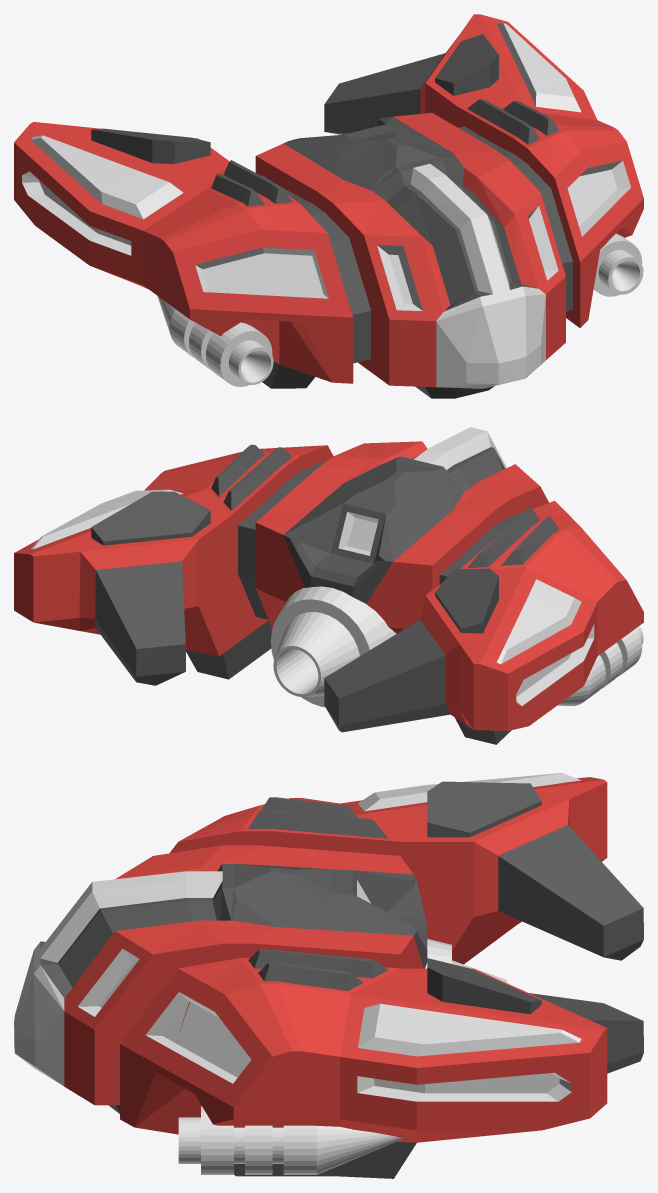
File: SmallEnemy.fbx
The picture shows the model from 3 angles, top to bottom: view 1: azimuth 30°, elevation 25°; view 2: azimuth 150°, elevation 25°; view 3: azimuth 270°, elevation 25°; orthographic projection. The views are drawn at different scales.
Visible parts, largest first — view 1: ScoutUnit; view 2: ScoutUnit; view 3: ScoutUnit.
Boxes of the visible parts, box(x1,y1,x2,y2) form: ScoutUnit: box(14, 14, 643, 398); ScoutUnit: box(14, 427, 643, 744); ScoutUnit: box(14, 773, 643, 1178).
Bounding box in the file's own units: 1707 × 675 × 1768.
